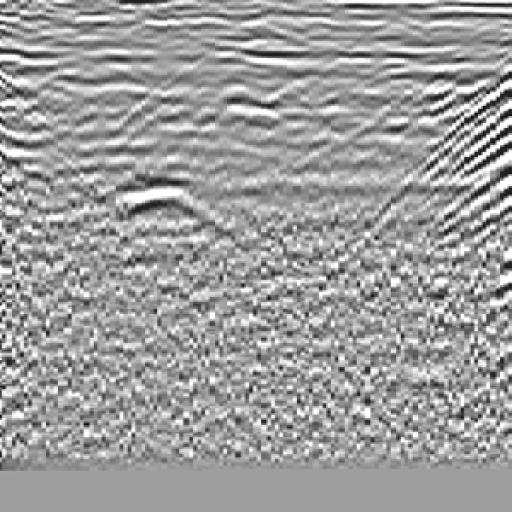metalic: (84, 155, 258, 267)
nonmetalic: (381, 53, 512, 277)
